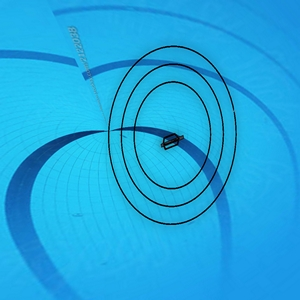circle: (102, 42, 241, 227)
submarine: (160, 131, 186, 150)
